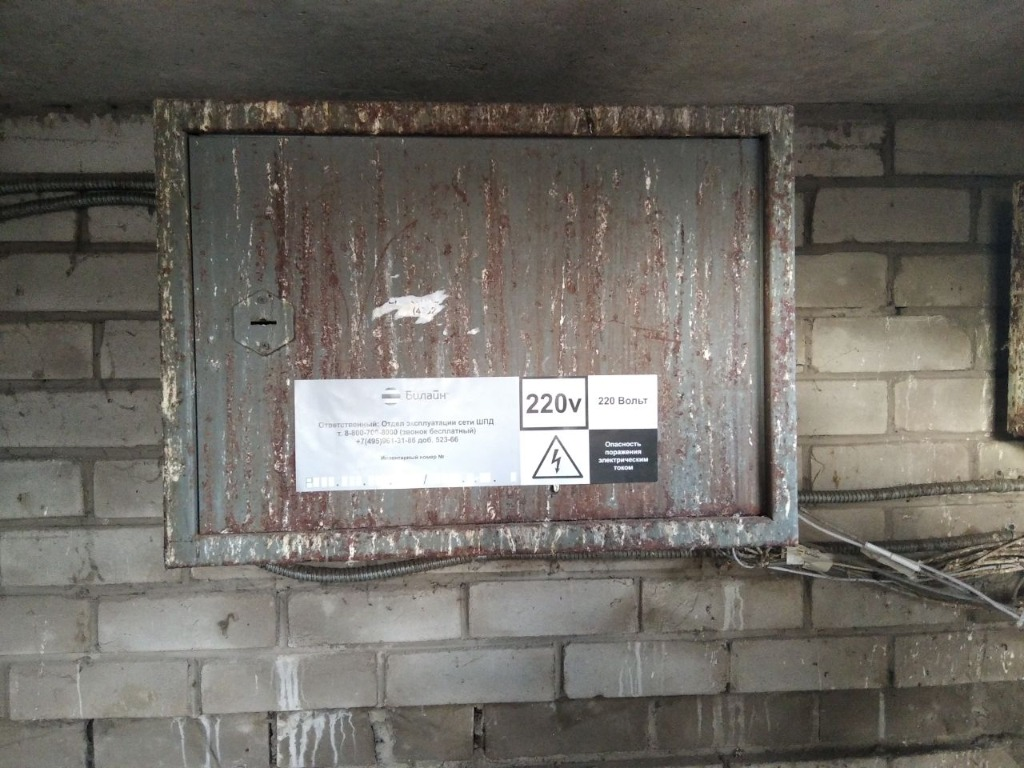e2-6u: (144, 90, 799, 581)
